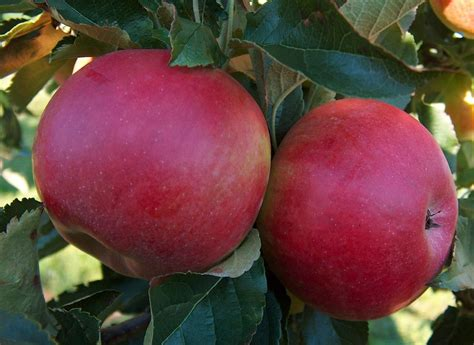apple: (29, 42, 274, 284), (254, 91, 456, 324)
